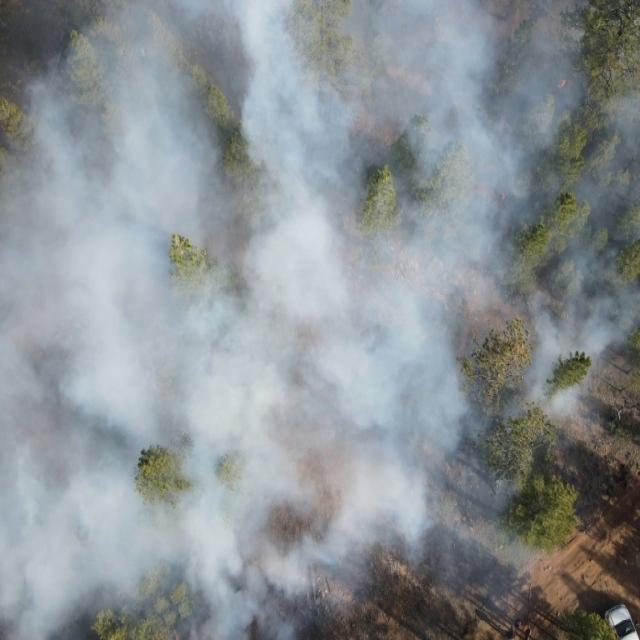fire: (556, 76, 568, 88), (499, 188, 510, 201)
smoke: (1, 0, 333, 640), (333, 0, 640, 460), (333, 462, 535, 612)
